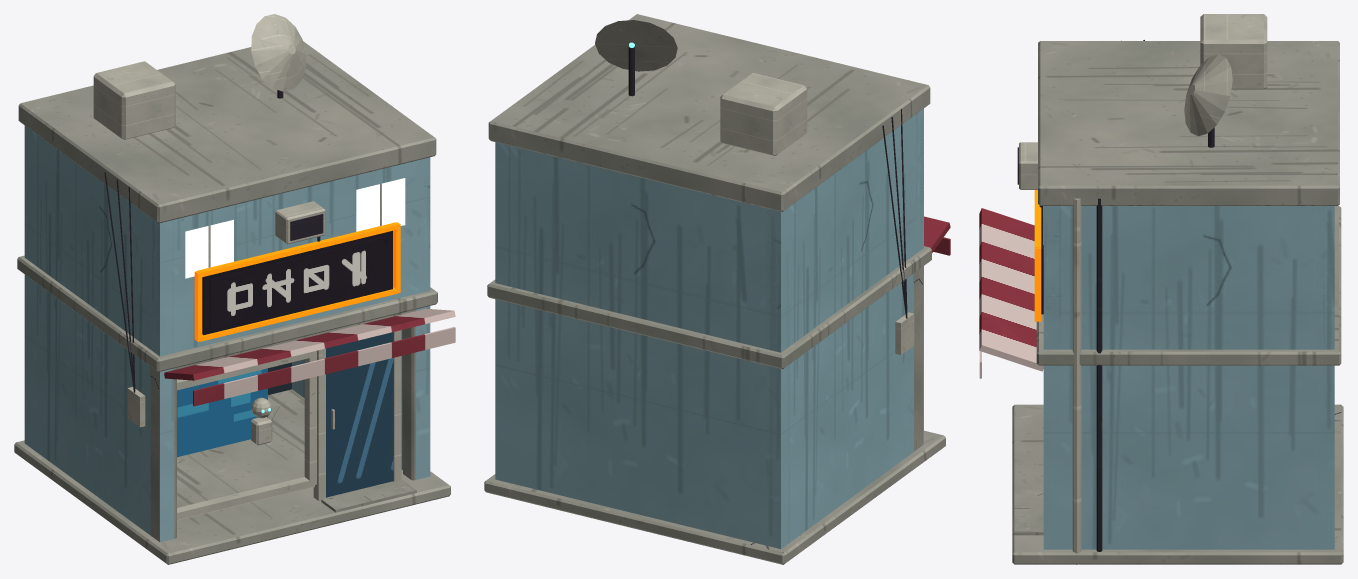
Rendered from servico_ia-assistente.glb.
3 views of the same model, side by side, from view 1: azimuth 30°, elevation 25°; view 2: azimuth 150°, elevation 25°; view 3: azimuth 270°, elevation 25° (orthographic). The views are drawn at different scales.
Visible parts, largest first — view 1: servico_ia-assistente; view 2: servico_ia-assistente; view 3: servico_ia-assistente.
Part boxes in pixels (bbox=[...]): servico_ia-assistente: bbox=[14, 14, 455, 564]; servico_ia-assistente: bbox=[484, 14, 950, 564]; servico_ia-assistente: bbox=[979, 14, 1343, 564].
Size of the model in its own units: 3.18 by 4.55 by 3.25.
6 materials, 3 textured.
